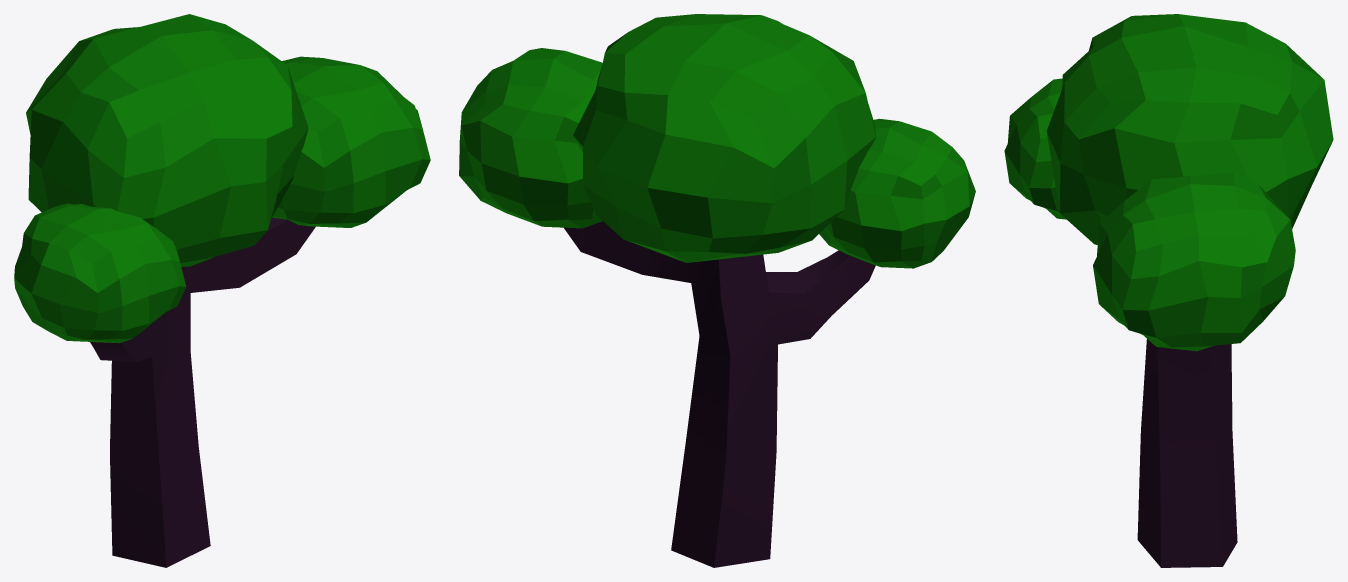
File: prop_tree1.FBX
The picture shows the model from 3 angles, left to right: view 1: azimuth 30°, elevation 25°; view 2: azimuth 150°, elevation 25°; view 3: azimuth 270°, elevation 25°; orthographic projection. The views are drawn at different scales.
Visible parts, largest first — view 1: tree; view 2: tree; view 3: tree.
Boxes of the visible parts, left/top/right/bottom form: tree: left=14, top=14, right=430, bottom=567; tree: left=459, top=14, right=975, bottom=567; tree: left=1004, top=14, right=1333, bottom=567.
Size of the model in its own units: 14.35 by 16.26 by 9.27.
